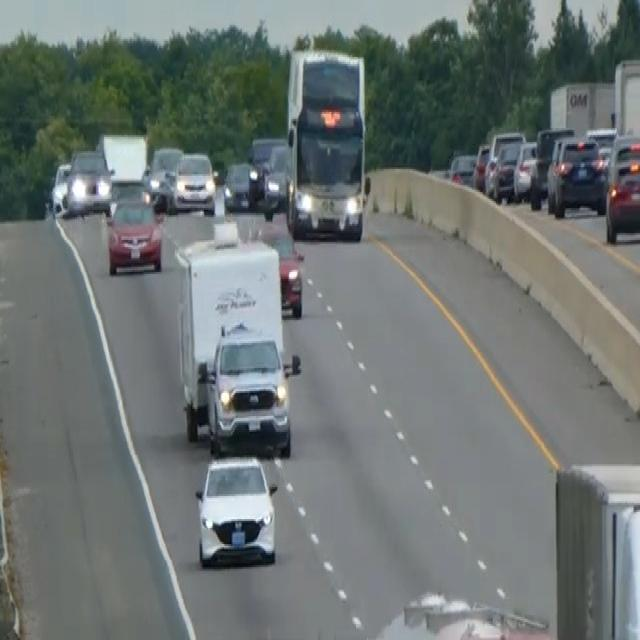bus: (283, 44, 371, 242)
car: (194, 452, 278, 567), (251, 217, 305, 316), (546, 133, 606, 217), (105, 194, 164, 276), (604, 132, 639, 244), (529, 125, 574, 206), (65, 146, 112, 215), (173, 150, 216, 213), (147, 144, 182, 206), (490, 139, 522, 201), (222, 158, 258, 212), (106, 172, 149, 217), (248, 135, 277, 199), (263, 142, 288, 212), (512, 139, 538, 201), (585, 125, 617, 167), (50, 160, 71, 213), (448, 151, 476, 187), (472, 140, 490, 190)
lorry: (402, 588, 550, 638)
truck: (173, 227, 285, 441)
